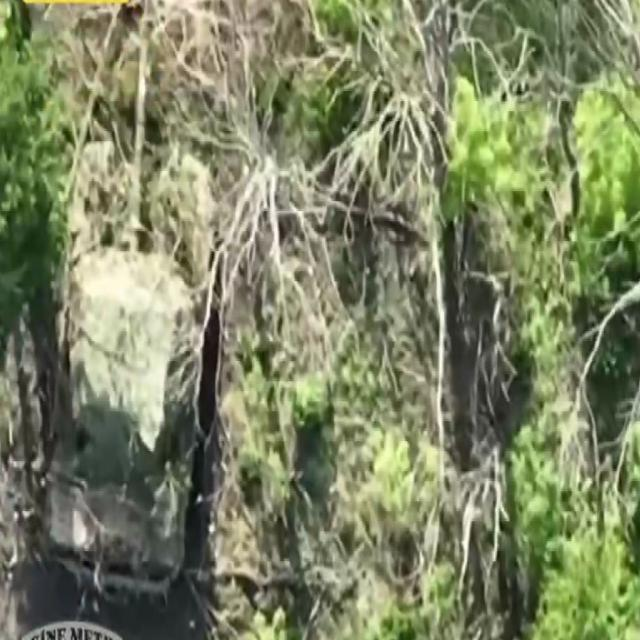TANK: (46, 23, 202, 587)
